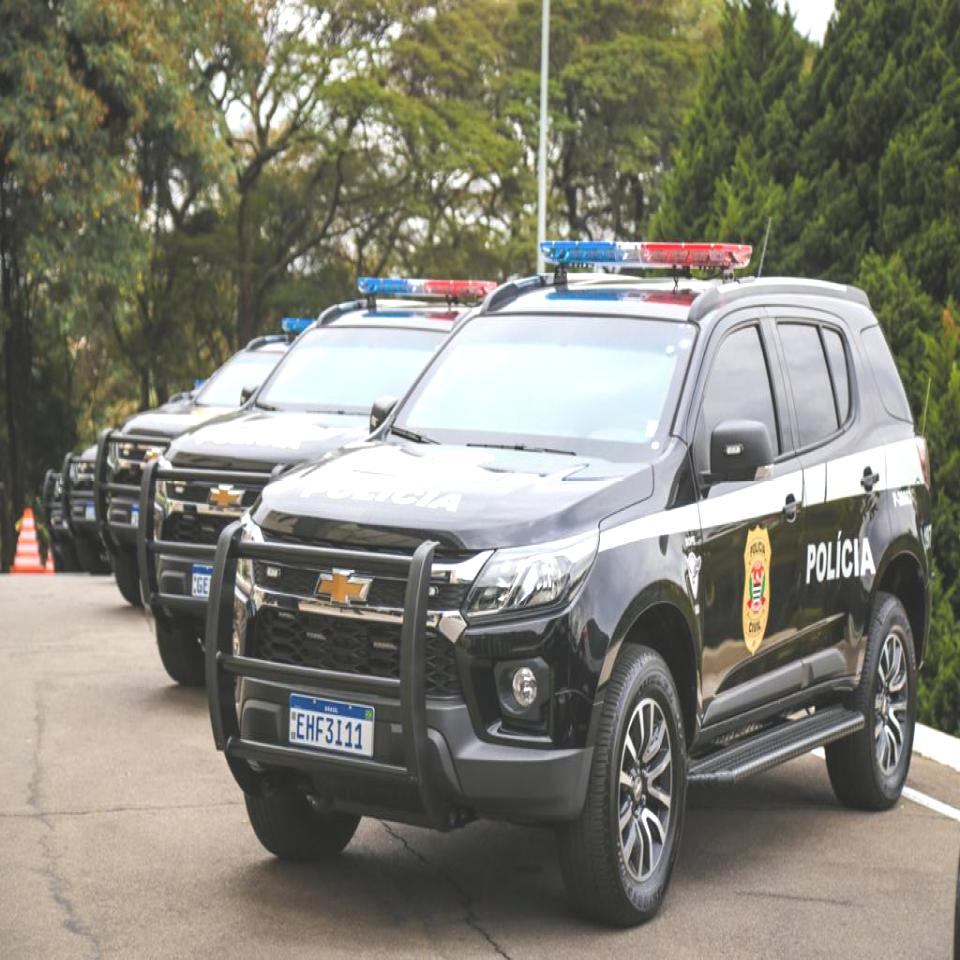viatura: (210, 230, 933, 929), (138, 267, 534, 706)
